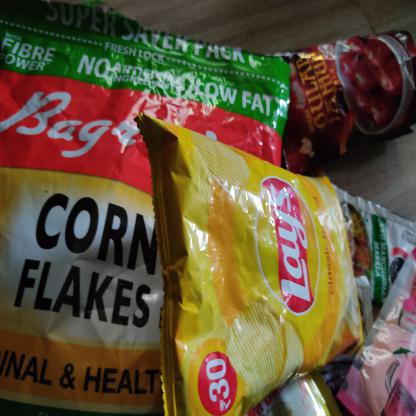classicsalted: (133, 111, 365, 415)
